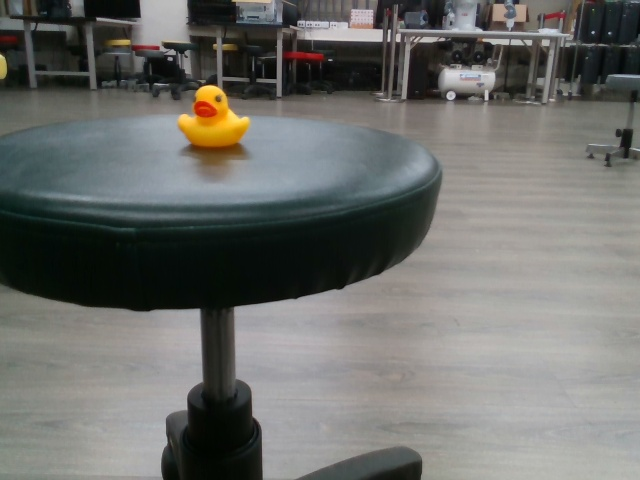duck: (176, 84, 252, 148)
